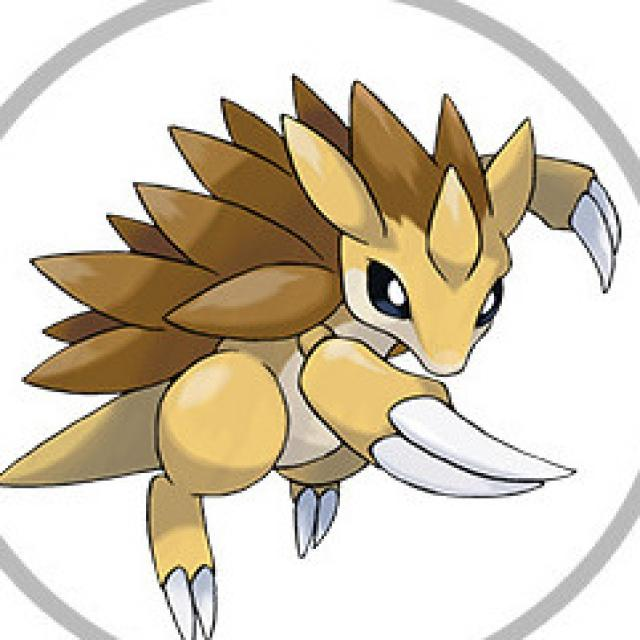Sandslash: (110, 85, 606, 606)
